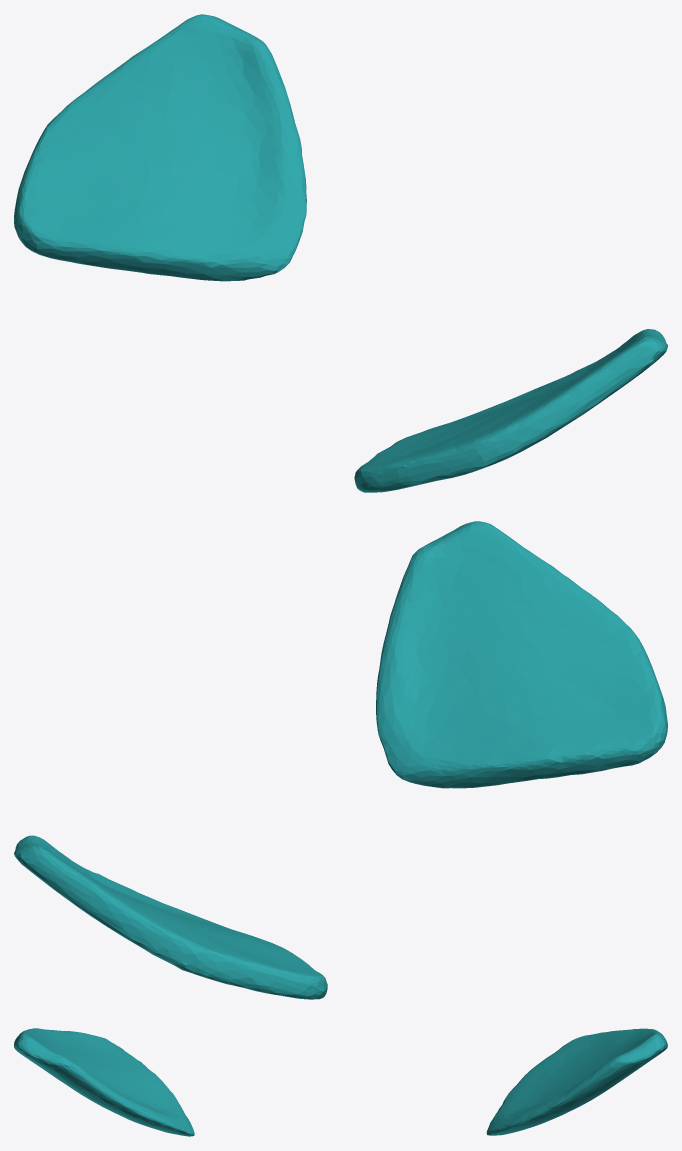
3 renders of one model, top to bottom at view 1: azimuth 30°, elevation 25°; view 2: azimuth 150°, elevation 25°; view 3: azimuth 270°, elevation 25°, orthographic. The views are drawn at different scales.
Parts seen in each view (by area): view 1: 778.obj; view 2: 778.obj; view 3: 778.obj.
Part boxes in pixels (left/top/right/bottom): 778.obj: left=14, top=14, right=667, bottom=492; 778.obj: left=14, top=521, right=667, bottom=999; 778.obj: left=14, top=1028, right=667, bottom=1136.
Size of the model in its own units: 2288 by 1334 by 6645.
